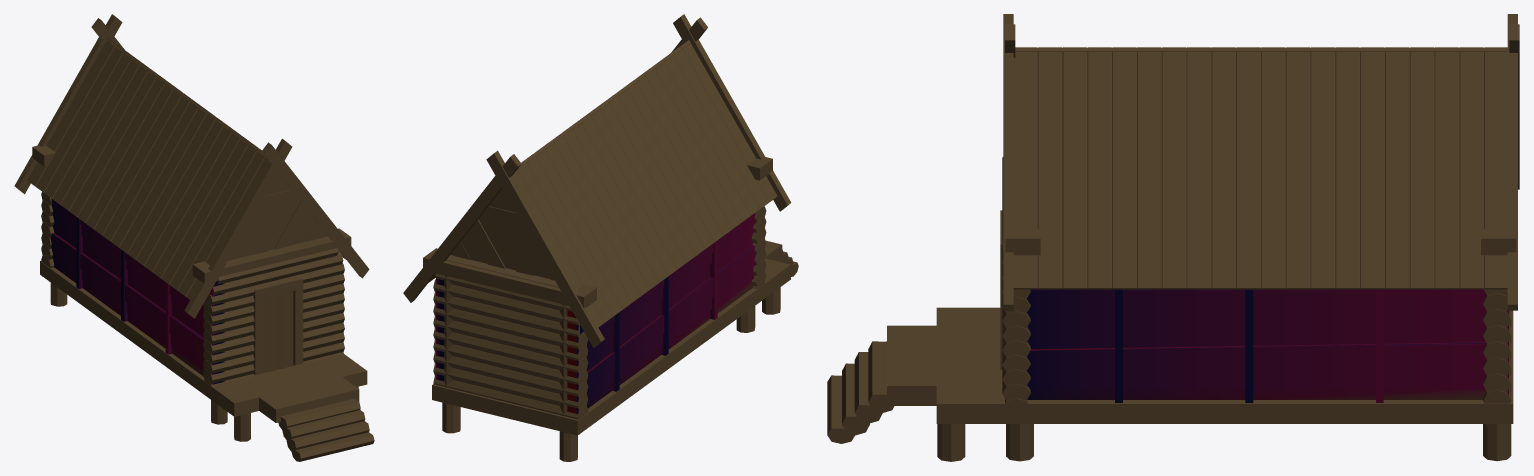
File: Casa bosque 1.fbx
3 views of the same model, side by side, from view 1: azimuth 30°, elevation 25°; view 2: azimuth 150°, elevation 25°; view 3: azimuth 270°, elevation 25° (orthographic). The views are drawn at different scales.
Parts seen in each view (by area): view 1: Roof_01_b, Wall_Narrow_01_b, Wall_Wide_01_a.001, Floor_01_b, Door_04, Wall_Narrow_02_b.008, Wall_Narrow_02_b.011, Wall_Narrow_02_b.010, Wall_Narrow_02_b.009, Wall_Narrow_02_b, Wall_Narrow_02_b.006; view 2: Roof_01_b, Wall_Narrow_02_b, Wall_Wide_01_a.001, Floor_01_b, Wall_Narrow_02_b.003, Wall_Narrow_02_b.002, Wall_Narrow_01_b, Wall_Wide_01_a; view 3: Roof_01_b, Wall_Wide_01_a, Floor_01_b, Wall_Narrow_01_b, Wall_Narrow_02_b, Wall_Narrow_02_b.008, Wall_Narrow_02_b.009, Wall_Narrow_02_b.011, Wall_Narrow_02_b.003, Wall_Narrow_02_b.010, Wall_Narrow_02_b.007, Wall_Narrow_02_b.005.
Boxes of the visible parts, left/top/right/bottom form: Roof_01_b: left=14, top=14, right=369, bottom=318; Wall_Narrow_01_b: left=203, top=248, right=344, bottom=386; Wall_Wide_01_a.001: left=50, top=198, right=224, bottom=384; Floor_01_b: left=40, top=261, right=367, bottom=422; Door_04: left=260, top=291, right=294, bottom=374; Wall_Narrow_02_b.008: left=278, top=398, right=360, bottom=430; Wall_Narrow_02_b.011: left=291, top=432, right=374, bottom=461; Wall_Narrow_02_b.010: left=286, top=421, right=369, bottom=451; Wall_Narrow_02_b.009: left=282, top=410, right=365, bottom=440; Wall_Narrow_02_b: left=41, top=192, right=54, bottom=276; Wall_Narrow_02_b.006: left=234, top=413, right=250, bottom=441; Roof_01_b: left=403, top=14, right=791, bottom=347; Wall_Narrow_02_b: left=433, top=255, right=588, bottom=434; Wall_Wide_01_a.001: left=567, top=213, right=755, bottom=413; Floor_01_b: left=432, top=240, right=790, bottom=435; Wall_Narrow_02_b.003: left=442, top=275, right=460, bottom=433; Wall_Narrow_02_b.002: left=559, top=304, right=577, bottom=461; Wall_Narrow_01_b: left=751, top=206, right=766, bottom=289; Wall_Wide_01_a: left=436, top=278, right=443, bottom=381; Roof_01_b: left=1003, top=14, right=1519, bottom=310; Wall_Wide_01_a: left=1027, top=289, right=1508, bottom=402; Floor_01_b: left=887, top=307, right=1513, bottom=423; Wall_Narrow_01_b: left=1000, top=157, right=1030, bottom=403; Wall_Narrow_02_b: left=1483, top=289, right=1511, bottom=424; Wall_Narrow_02_b.008: left=868, top=341, right=894, bottom=412; Wall_Narrow_02_b.009: left=854, top=352, right=882, bottom=423; Wall_Narrow_02_b.011: left=827, top=375, right=855, bottom=443; Wall_Narrow_02_b.003: left=1483, top=310, right=1511, bottom=461; Wall_Narrow_02_b.010: left=842, top=363, right=869, bottom=435; Wall_Narrow_02_b.007: left=937, top=424, right=965, bottom=461; Wall_Narrow_02_b.005: left=1006, top=424, right=1033, bottom=461.
Size of the model in its own units: 289 by 409 by 644.
